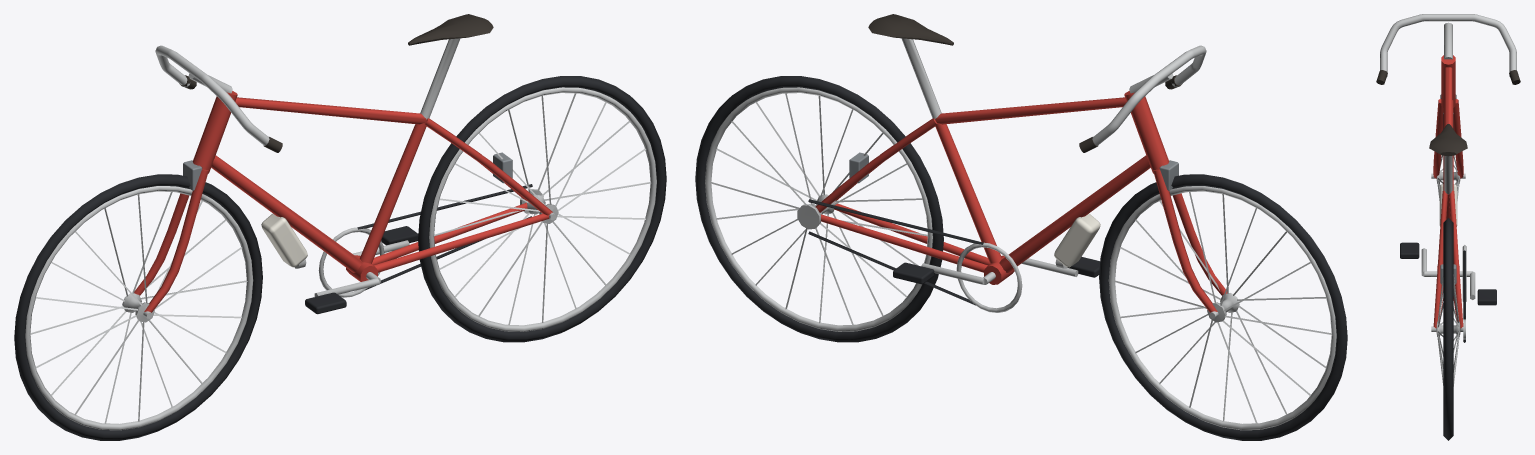
File: roadBike.glb
The picture shows the model from 3 angles, left to right: view 1: azimuth 30°, elevation 25°; view 2: azimuth 150°, elevation 25°; view 3: azimuth 270°, elevation 25°; orthographic projection. The views are drawn at different scales.
Parts seen in each view (by area): view 1: frame, wheel_front, wheel_rear, cranks; view 2: frame, wheel_front, wheel_rear, cranks; view 3: frame, wheel_rear, cranks, wheel_front.
Boxes of the visible parts, x1,y1,x2,y2 form: frame: [134, 14, 552, 312]; wheel_front: [14, 174, 262, 440]; wheel_rear: [418, 76, 666, 342]; cranks: [305, 226, 418, 314]; frame: [797, 14, 1227, 312]; wheel_front: [1099, 174, 1347, 440]; wheel_rear: [695, 76, 943, 342]; cranks: [893, 242, 1100, 312]; frame: [1376, 14, 1520, 342]; wheel_rear: [1431, 218, 1463, 440]; cranks: [1400, 242, 1496, 305]; wheel_front: [1431, 114, 1465, 200].
Size of the model in its own units: 1.81 by 0.9614 by 0.4466.
